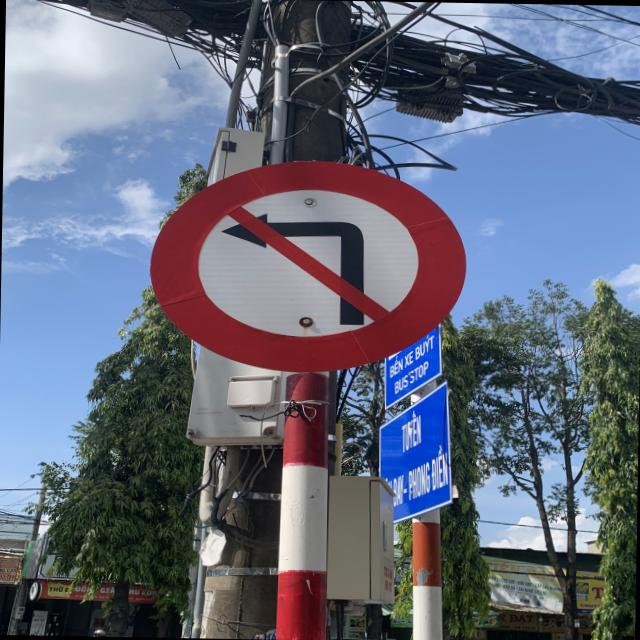Cam_Re_Trai: (147, 158, 472, 370)
